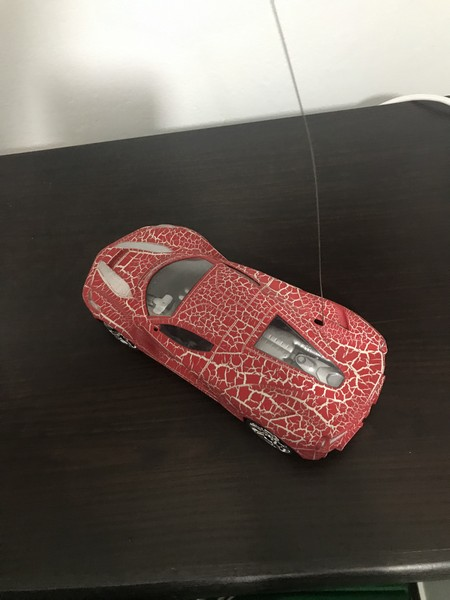RC: (79, 221, 391, 469)
